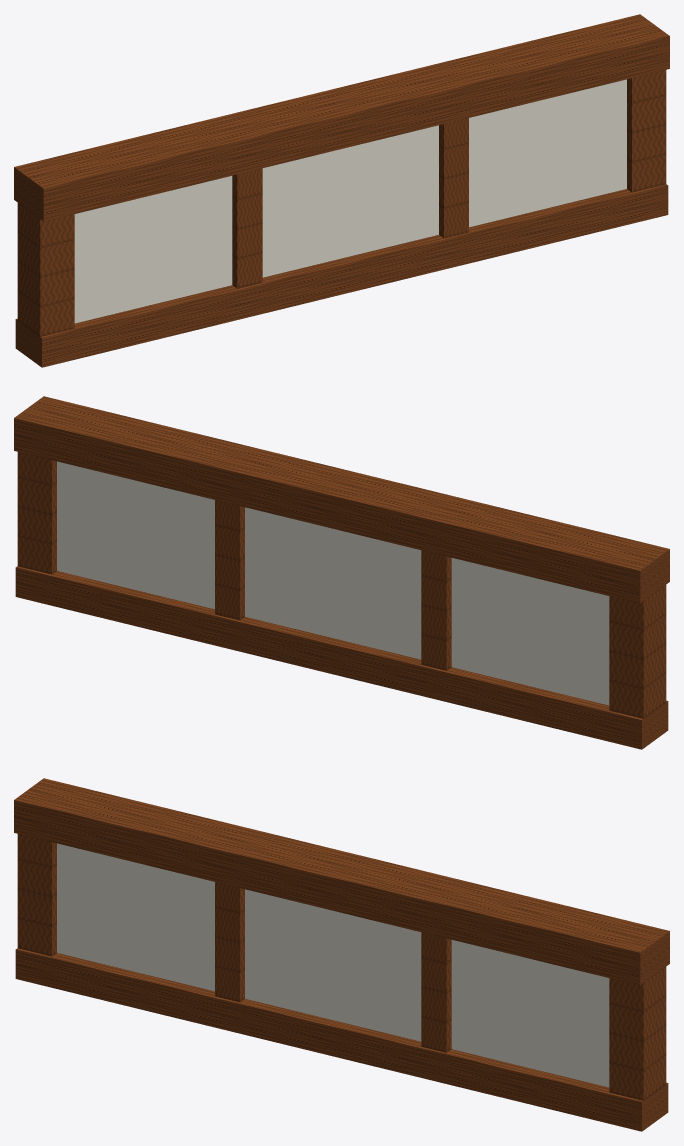
The model's file is blacksmith-forge-and-armoury-blacksmith-forge-and-armo-616b7758__37554.glb.
3 renders of one model, top to bottom at view 1: azimuth 30°, elevation 25°; view 2: azimuth 150°, elevation 25°; view 3: azimuth 330°, elevation 25°, orthographic.
Parts seen in each view (by area): view 1: blacksmith-forge-and-armoury-timber-frame-half-wall; view 2: blacksmith-forge-and-armoury-timber-frame-half-wall; view 3: blacksmith-forge-and-armoury-timber-frame-half-wall.
Boxes of the visible parts, x1,y1,x2,y2 form: blacksmith-forge-and-armoury-timber-frame-half-wall: (14,14,669,367); blacksmith-forge-and-armoury-timber-frame-half-wall: (14,396,669,749); blacksmith-forge-and-armoury-timber-frame-half-wall: (14,778,669,1131).
Bounding box in the file's own units: 4 × 1.1 × 0.3301.
Materials: 2 (1 with a texture image).
